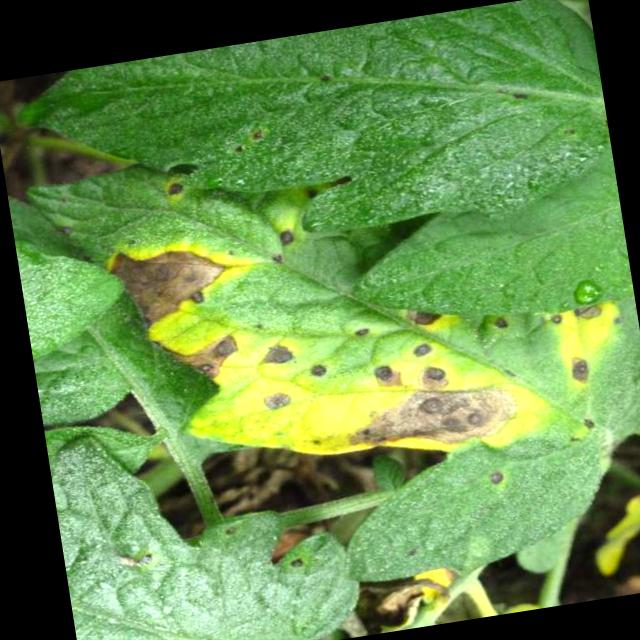Early_blight: (336, 376, 525, 469), (103, 228, 257, 334), (143, 325, 244, 392), (412, 360, 451, 393), (368, 361, 404, 394), (405, 307, 447, 335), (257, 340, 294, 370), (562, 353, 593, 388), (258, 388, 293, 417), (572, 301, 605, 326), (162, 177, 188, 207), (408, 339, 436, 364), (273, 226, 296, 250), (484, 470, 508, 488), (306, 364, 327, 382), (490, 315, 510, 333), (349, 326, 371, 341)
